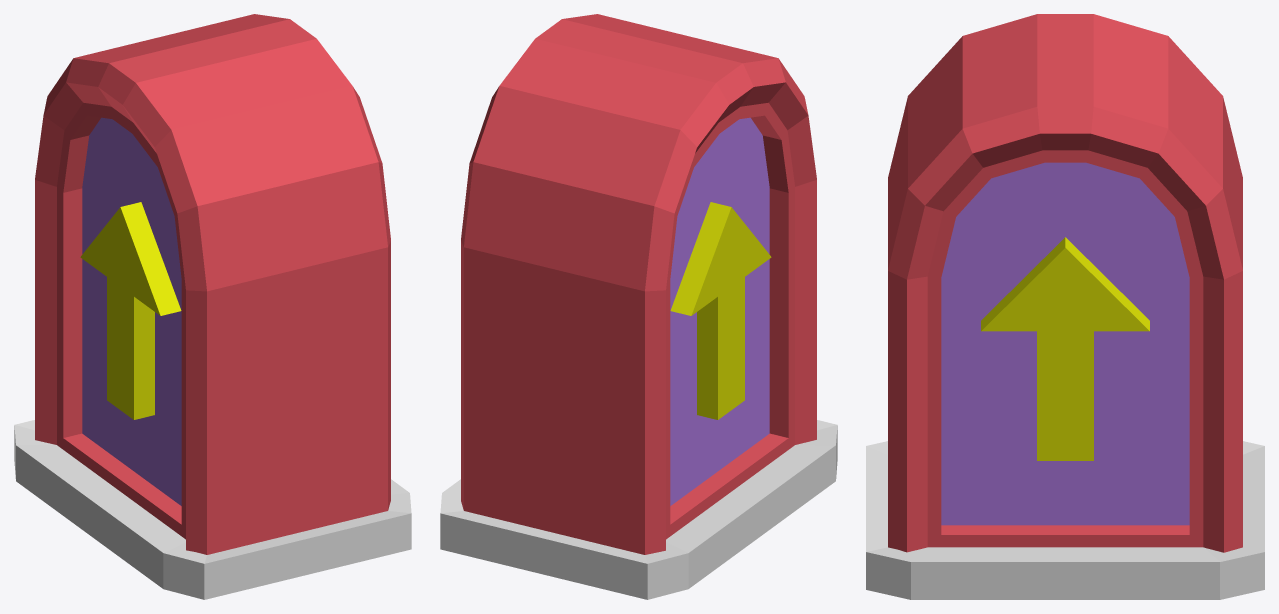
Rendered from upgradeStation.fbx.
The picture shows the model from 3 angles, left to right: view 1: azimuth 30°, elevation 25°; view 2: azimuth 150°, elevation 25°; view 3: azimuth 270°, elevation 25°; orthographic projection. The views are drawn at different scales.
Visible parts, largest first — view 1: Upgrades; view 2: Upgrades; view 3: Upgrades.
Part boxes in pixels (<box>): Upgrades: <box>14,14,411,599</box>; Upgrades: <box>440,14,837,599</box>; Upgrades: <box>866,14,1264,599</box>.
Size of the model in its own units: 99.61 by 175 by 133.
